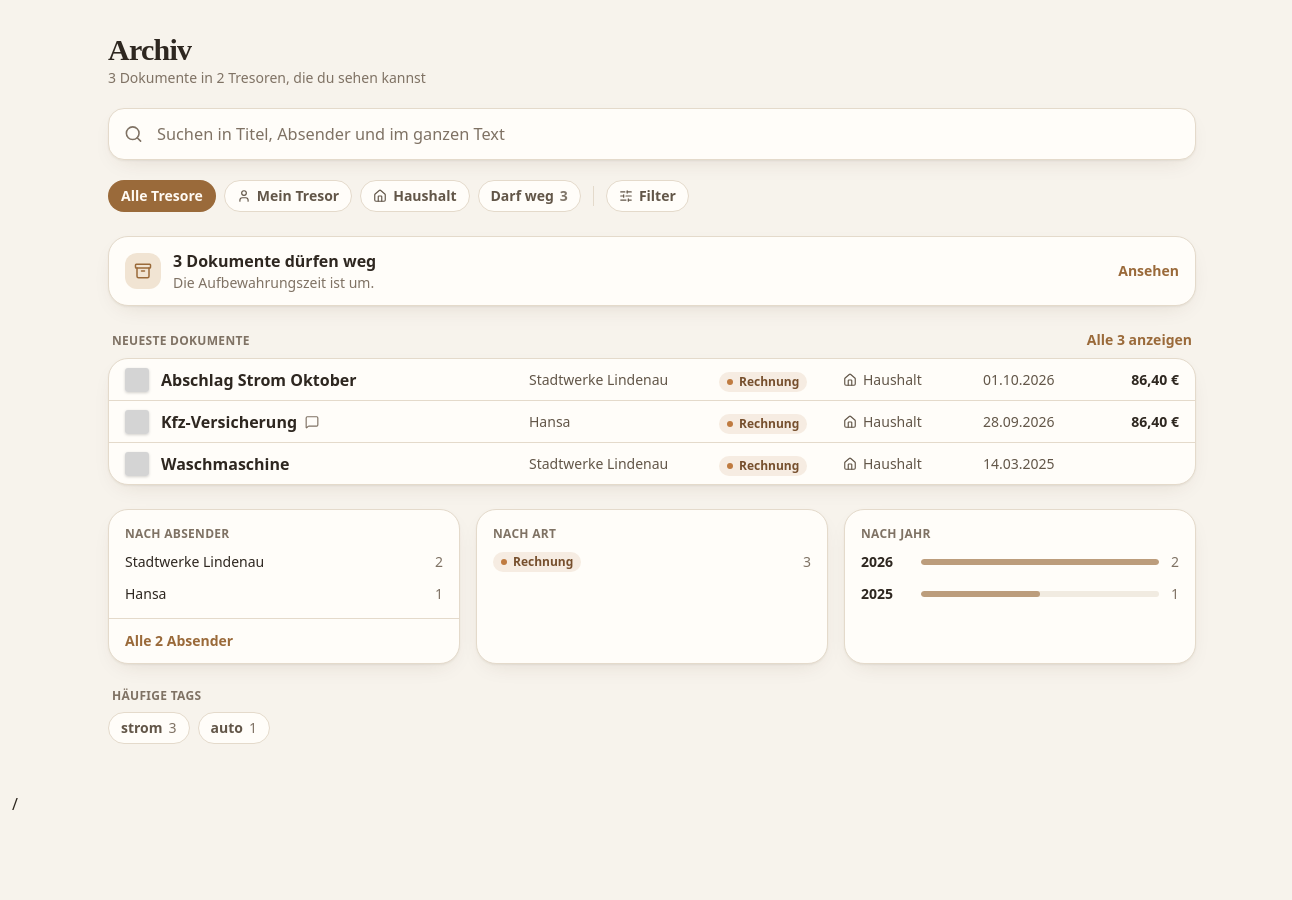
it: the filter "Darf weg" › says in the overview how many may go, and the hint and the chip open the filter
Click the button "3 Dokumente dürfen weg Die Aufbewahrungszeit ist um. Ansehen" at coordinates (143, 271), box [108,236,1196,306]
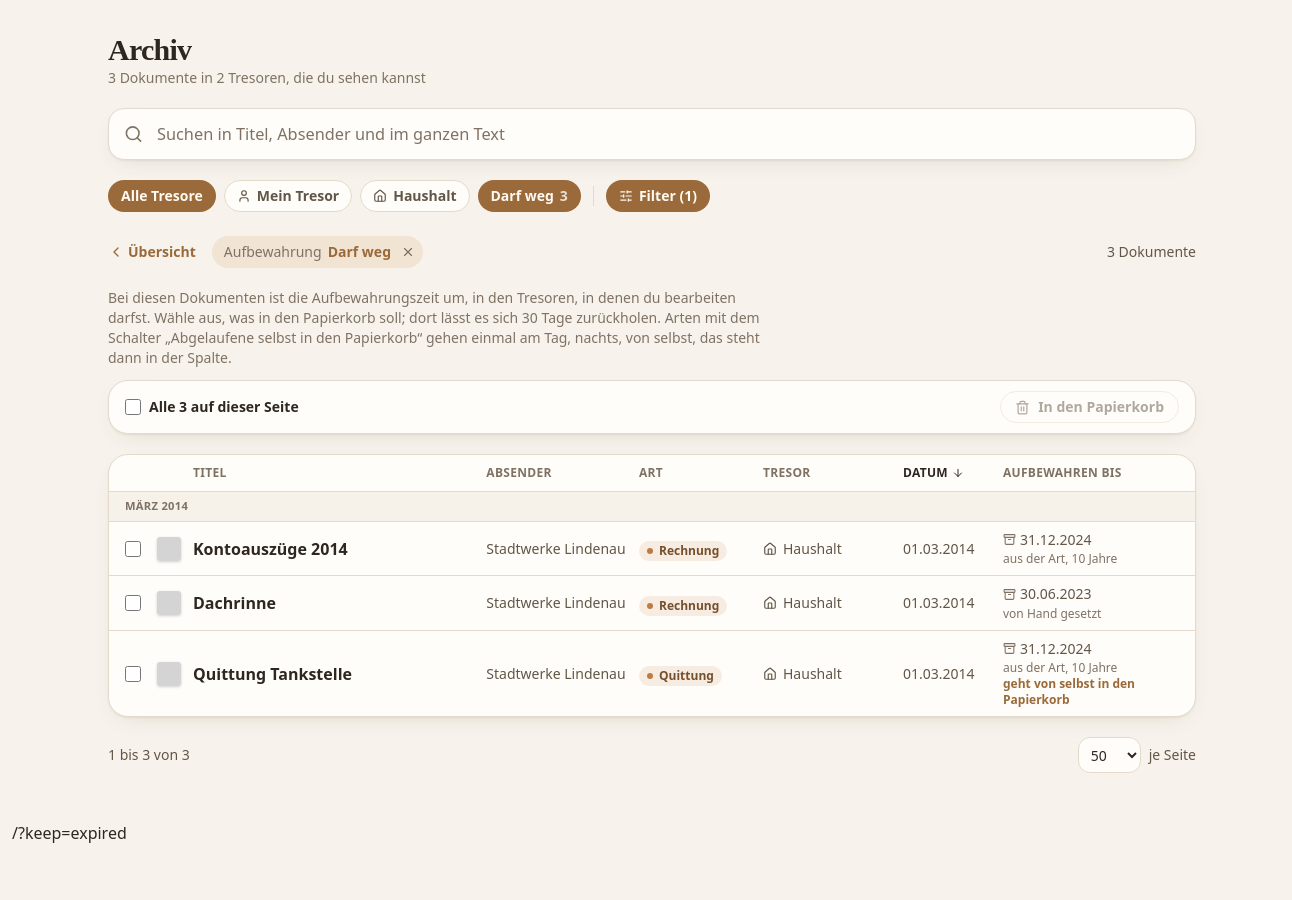
expect the text with test id "where" reads "/?keep=expired": met, box [12,822,127,844]
expect the element with test id "pill" shows "Darf weg": met, box [328,242,391,261]
expect the element with test id "table" shows "Aufbewahren bis": met, box [1003,464,1122,481]
